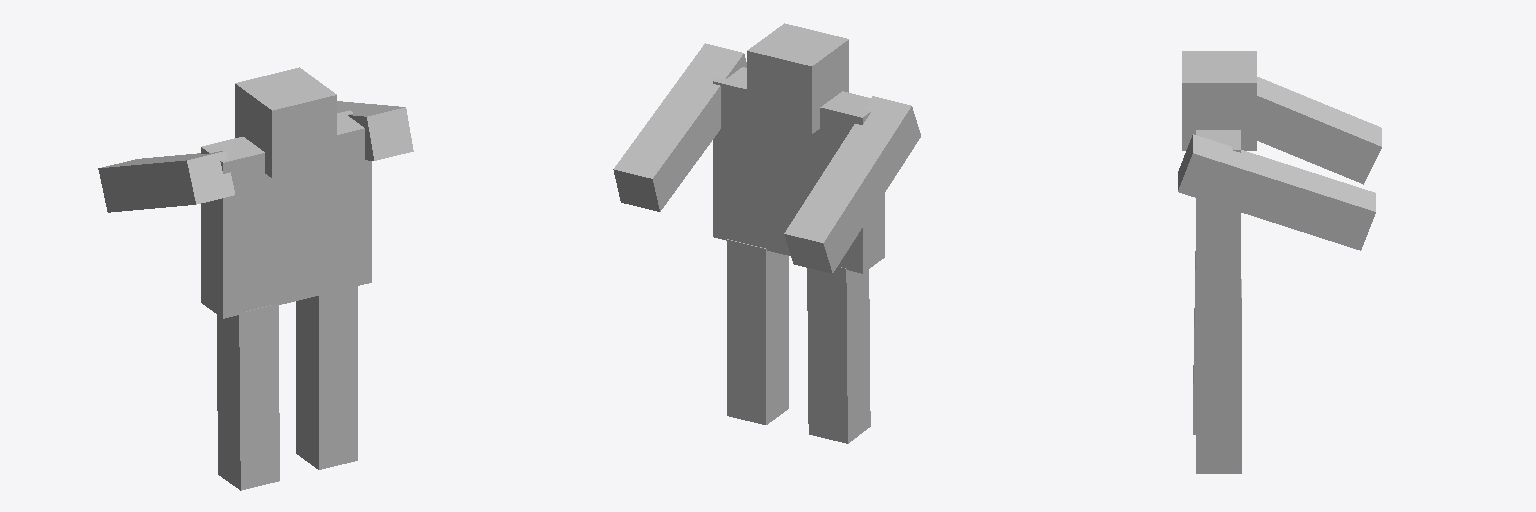
The model's file is zombie0037.obj.
3 renders of one model, left to right at view 1: azimuth 30°, elevation 25°; view 2: azimuth 150°, elevation 25°; view 3: azimuth 270°, elevation 25°, orthographic.
Visible parts, largest first — view 1: Cube, Cube.004, Cube.005, Cube.001, Cube.002, Cube.003; view 2: Cube, Cube.002, Cube.005, Cube.004, Cube.003, Cube.001; view 3: Cube.003, Cube.005, Cube.002, Cube.001, Cube.
Boxes of the visible parts, <box> form: Cube: <box>201,110,371,318</box>; Cube.004: <box>217,304,279,490</box>; Cube.005: <box>296,285,357,469</box>; Cube.001: <box>235,67,336,178</box>; Cube.002: <box>98,151,234,212</box>; Cube.003: <box>337,101,413,160</box>; Cube: <box>713,67,884,273</box>; Cube.002: <box>784,96,920,273</box>; Cube.005: <box>727,239,788,424</box>; Cube.004: <box>807,267,870,443</box>; Cube.003: <box>613,43,746,211</box>; Cube.001: <box>747,23,848,133</box>; Cube.003: <box>1178,134,1375,250</box>; Cube.005: <box>1196,279,1241,473</box>; Cube.002: <box>1257,77,1381,184</box>; Cube.001: <box>1182,51,1256,150</box>; Cube: <box>1196,130,1240,305</box>.
Bounding box in the file's own units: 2.86 × 4.85 × 2.38.